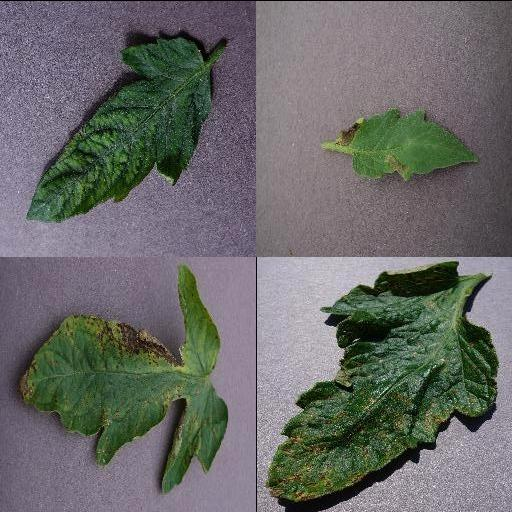Late Blight: (335, 105, 479, 183)
Mosaic Virus: (25, 31, 213, 223)
Septoria: (266, 259, 497, 499), (19, 265, 229, 493)
